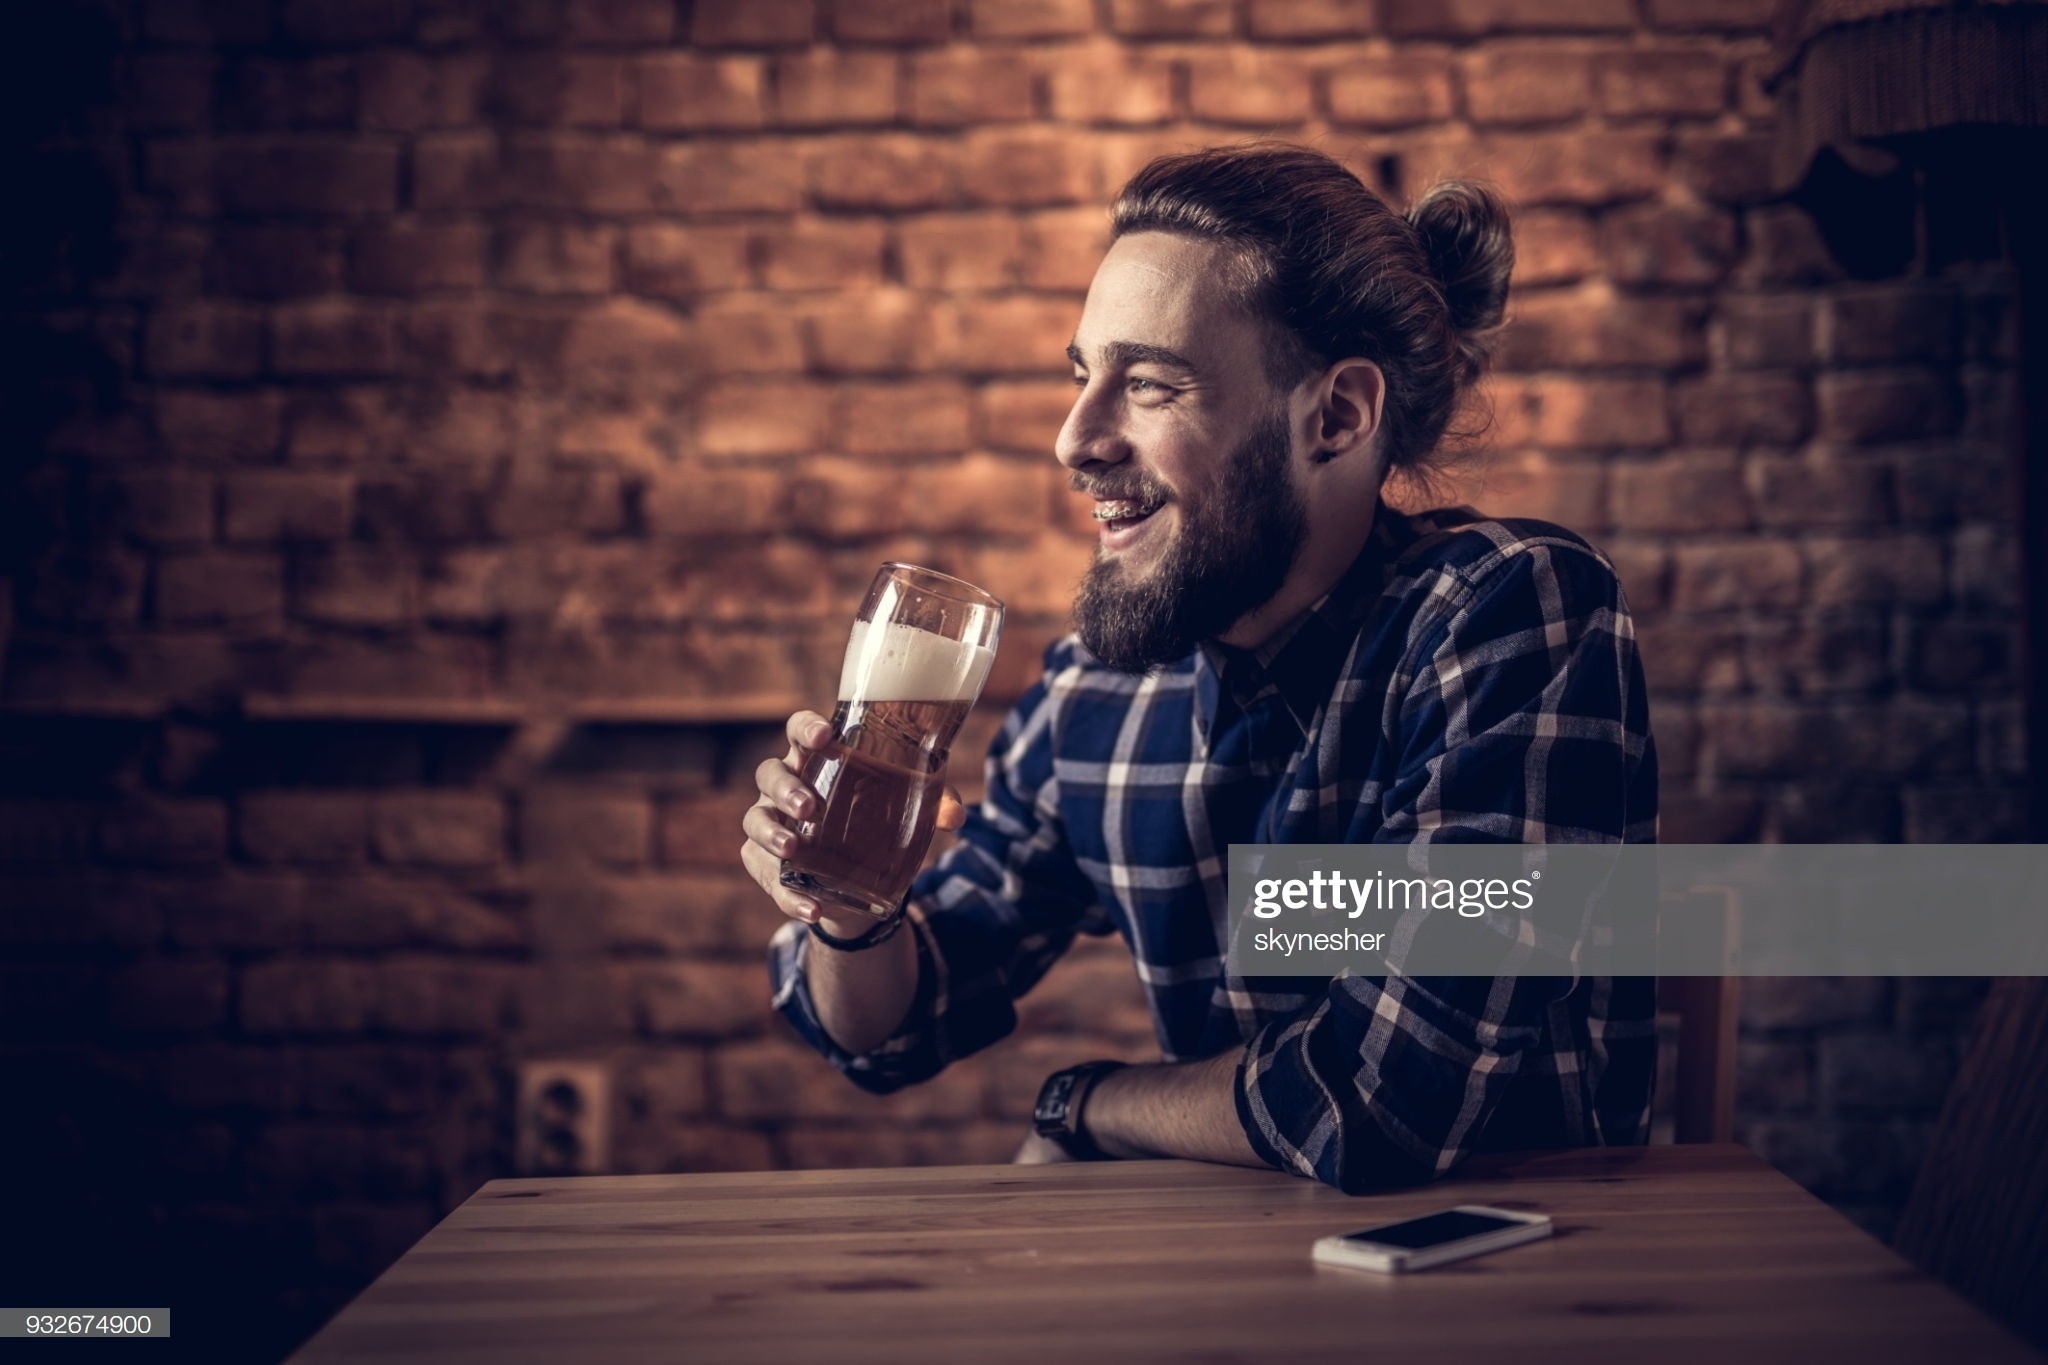whiskey: (783, 571, 1011, 903)
